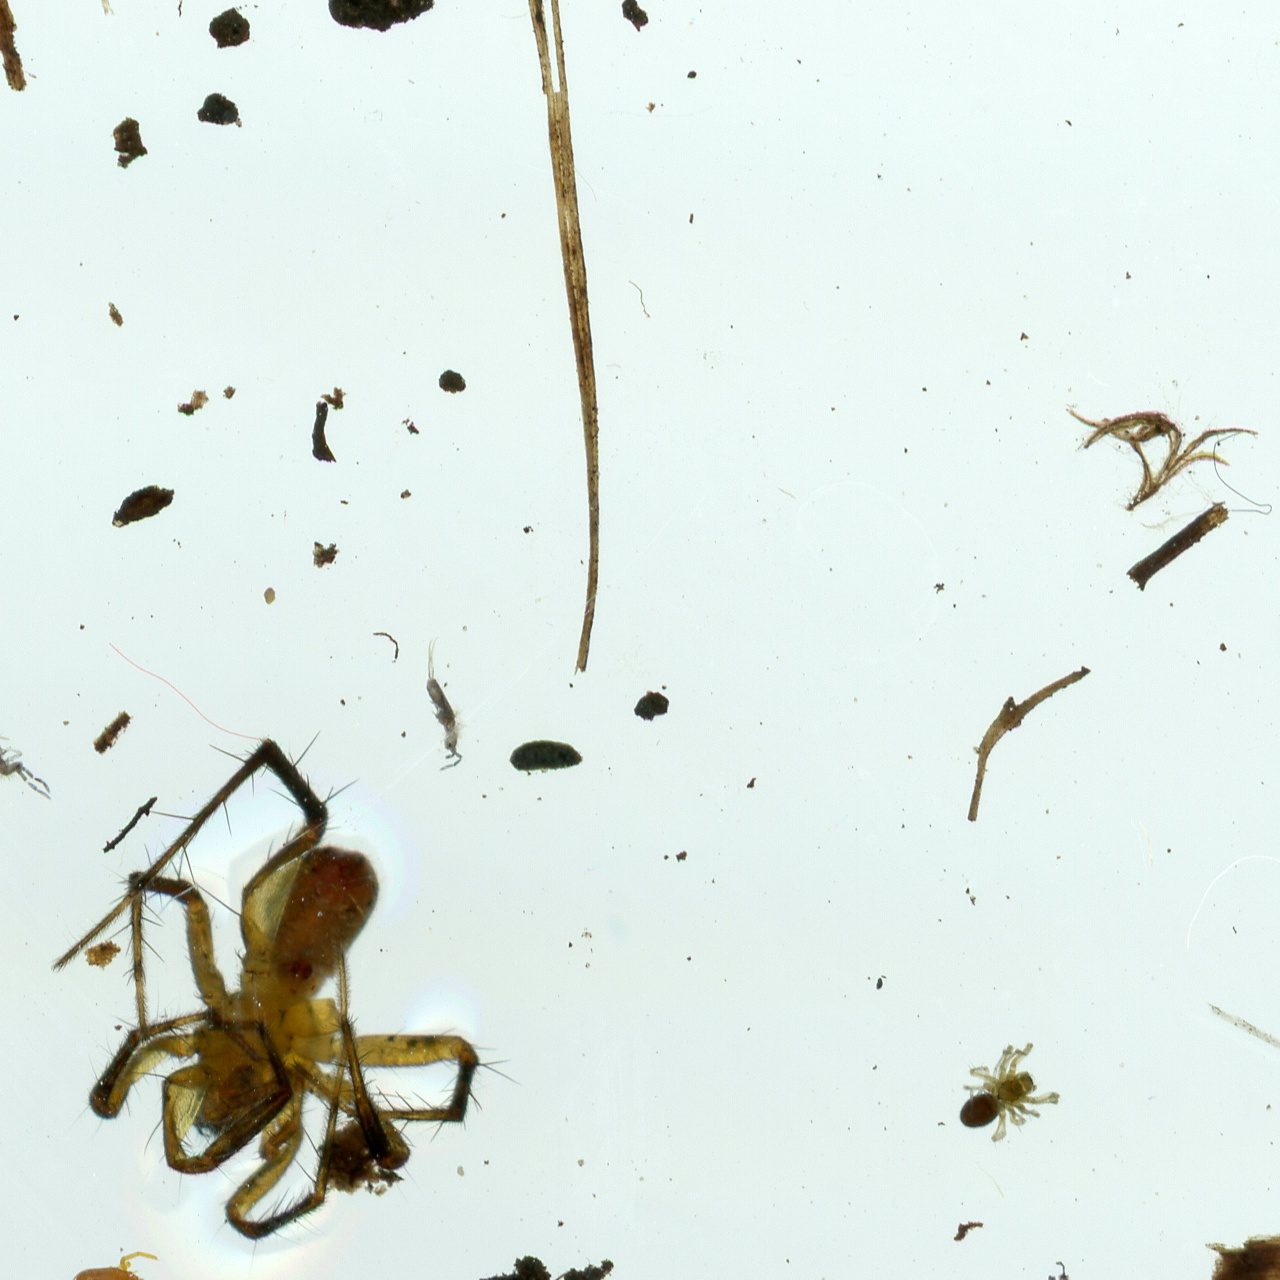arthropod: (40, 730, 528, 1273), (954, 1032, 1067, 1148), (0, 679, 81, 822), (414, 624, 472, 782), (999, 1244, 1095, 1280), (60, 1249, 158, 1280)
